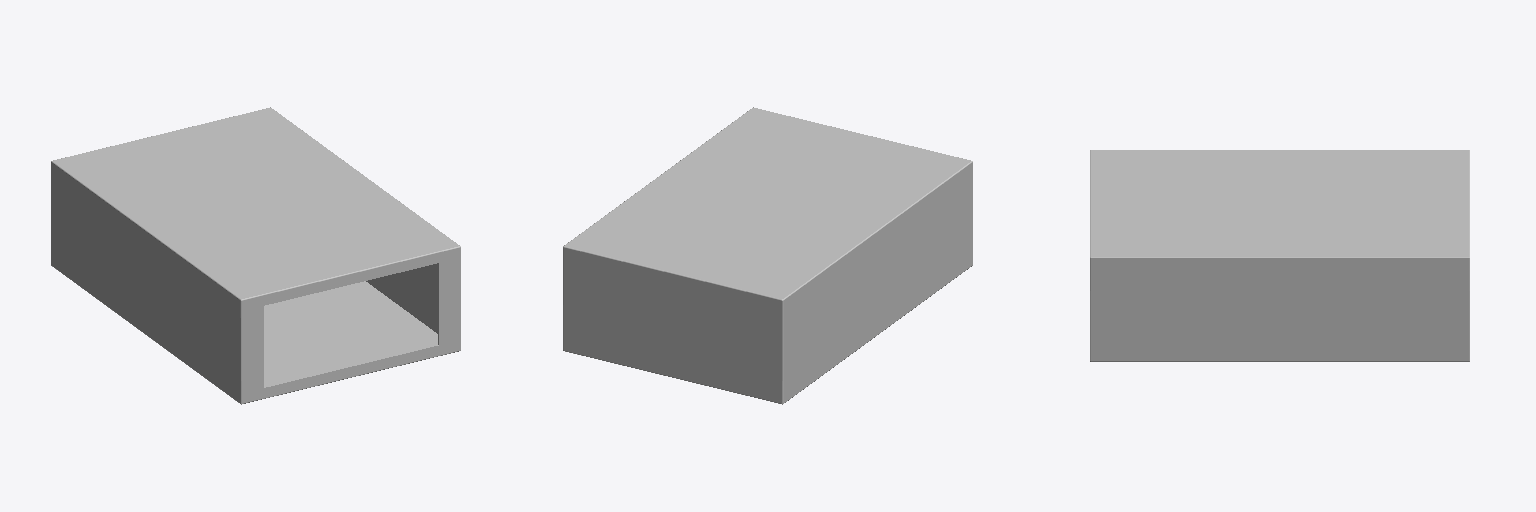
The model's file is sCube5.obj.
The picture shows the model from 3 angles: view 1: azimuth 30°, elevation 25°; view 2: azimuth 150°, elevation 25°; view 3: azimuth 270°, elevation 25°; orthographic projection.
Parts seen in each view (by area): view 1: OutsideFacade_35; view 2: OutsideFacade_35; view 3: OutsideFacade_35.
Part boxes in pixels (x1,y1,x2,y2): OutsideFacade_35: (51, 107, 460, 404); OutsideFacade_35: (563, 107, 972, 404); OutsideFacade_35: (1090, 150, 1469, 361).
Bounding box in the file's own units: 20.2 × 9.2 × 30.2.